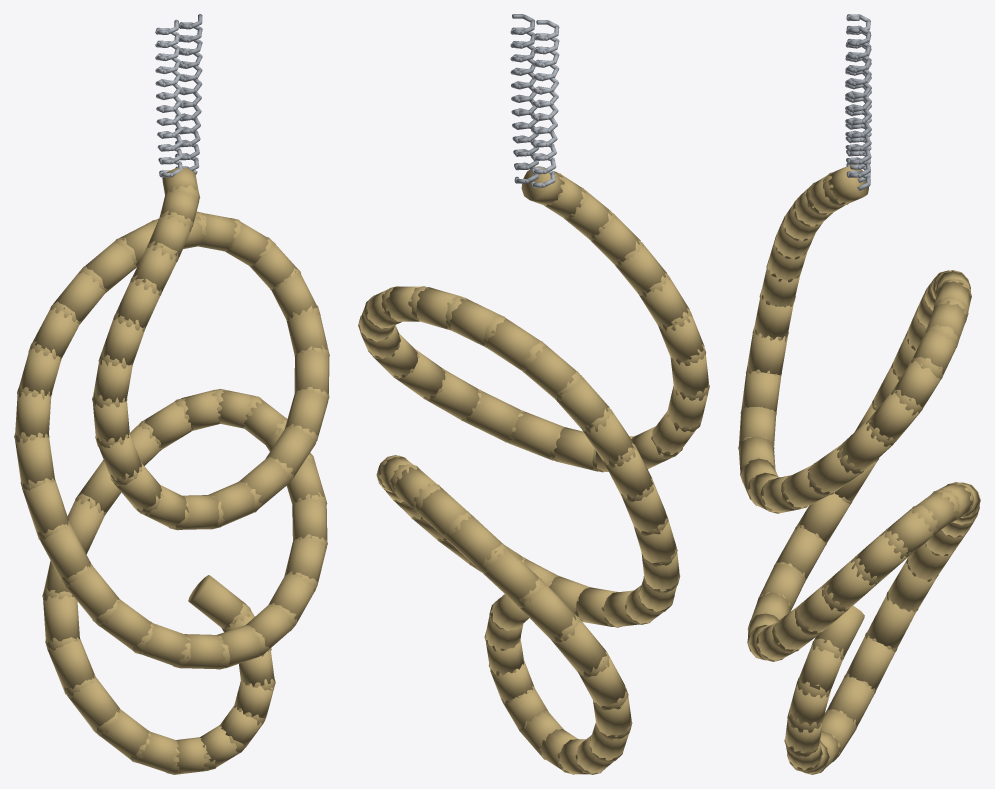
File: hy3d-mov-012.glb
The picture shows the model from 3 angles, left to right: view 1: azimuth 30°, elevation 25°; view 2: azimuth 150°, elevation 25°; view 3: azimuth 270°, elevation 25°; orthographic projection. The views are drawn at different scales.
Parts seen in each view (by area): view 1: world; view 2: world; view 3: world.
Boxes of the visible parts, box(x1,y1,x2,y2) form: world: box(14, 14, 329, 774); world: box(358, 14, 709, 774); world: box(738, 14, 980, 774).
Bounding box in the file's own units: 0.7431 × 1.79 × 0.522.
1 material, 1 textured.
